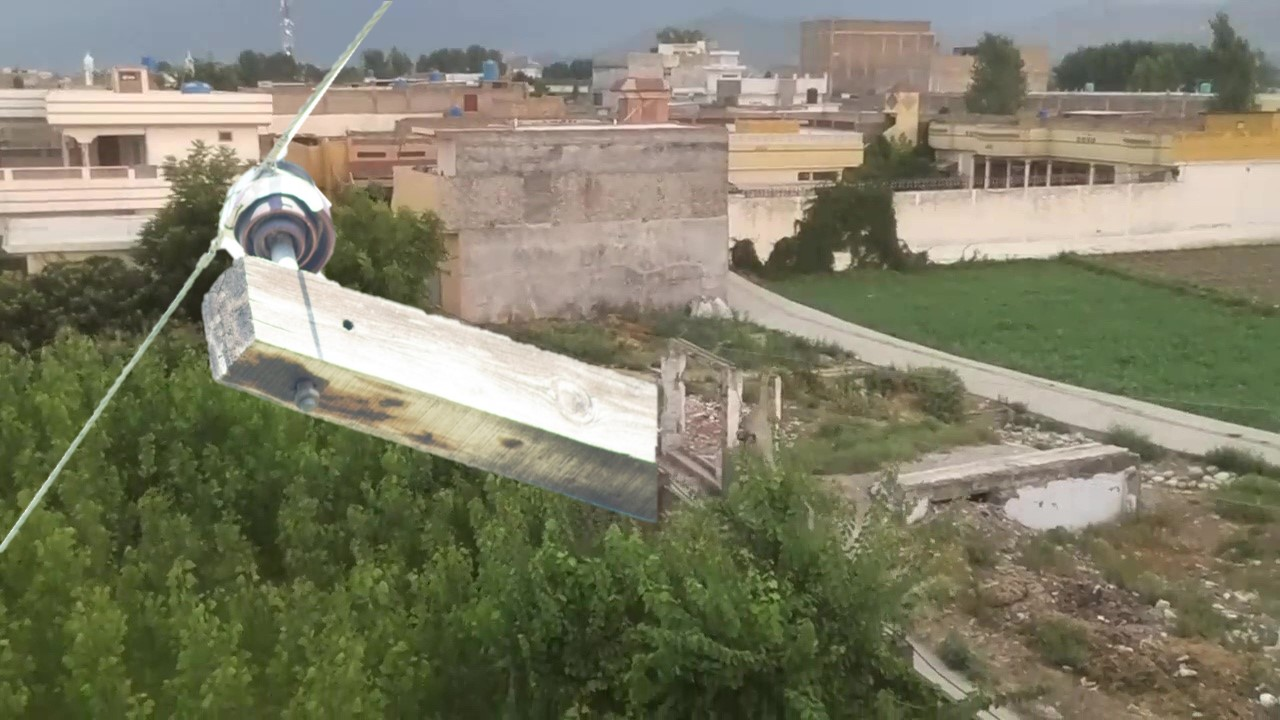defect_pin: (212, 160, 340, 269)
